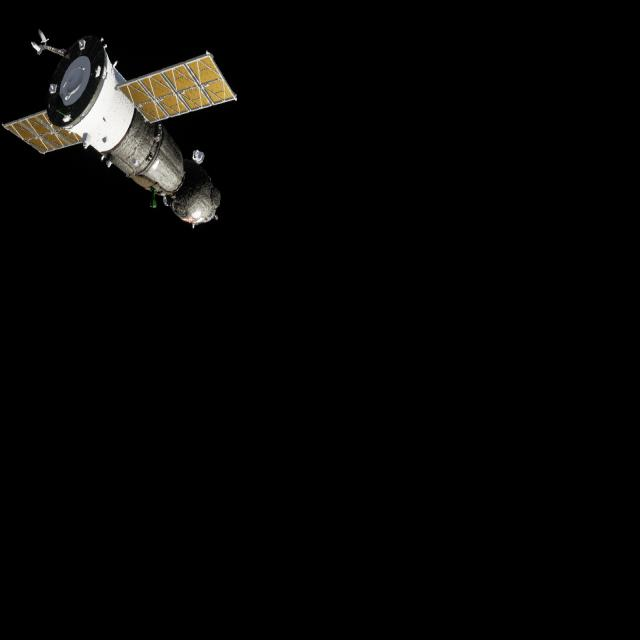Satellites revolving around earth: (1, 27, 239, 231)
